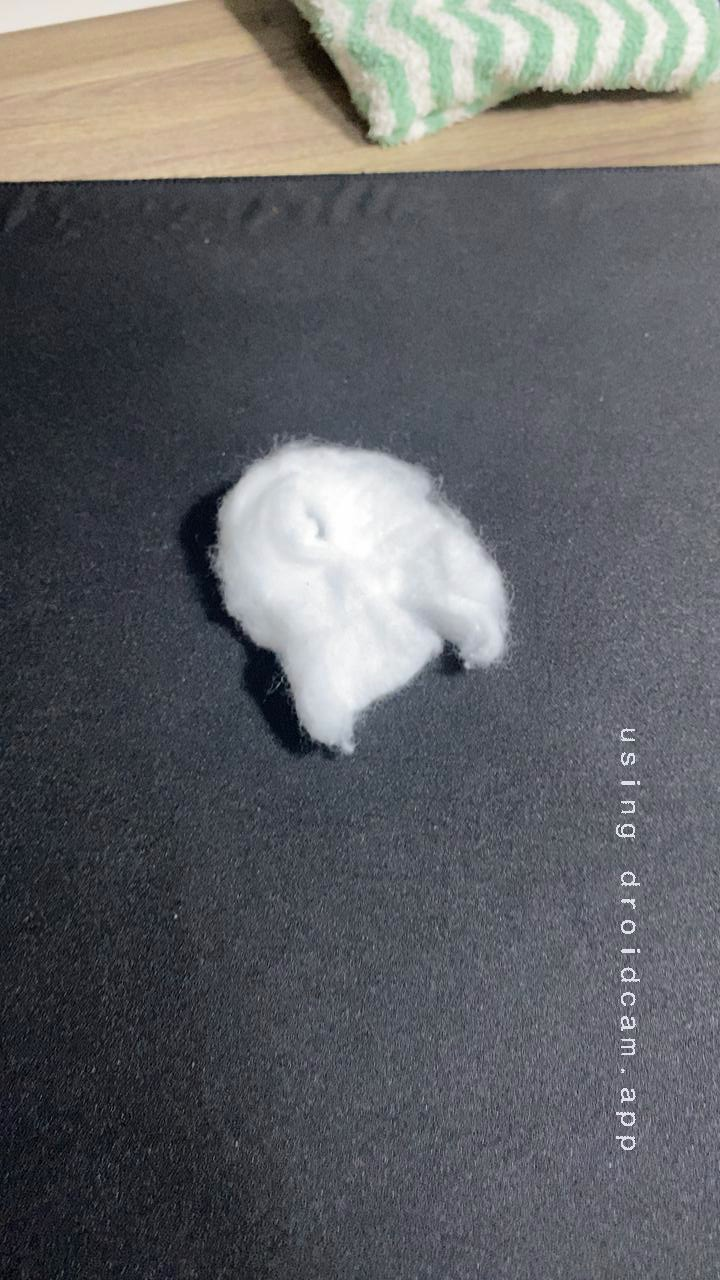cotton: (168, 421, 529, 773)
